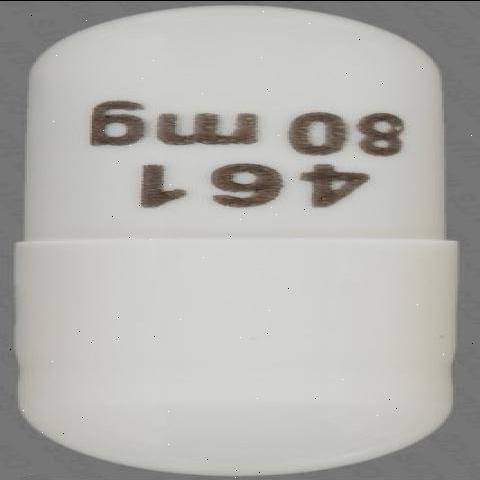Pill: (11, 1, 476, 476)
